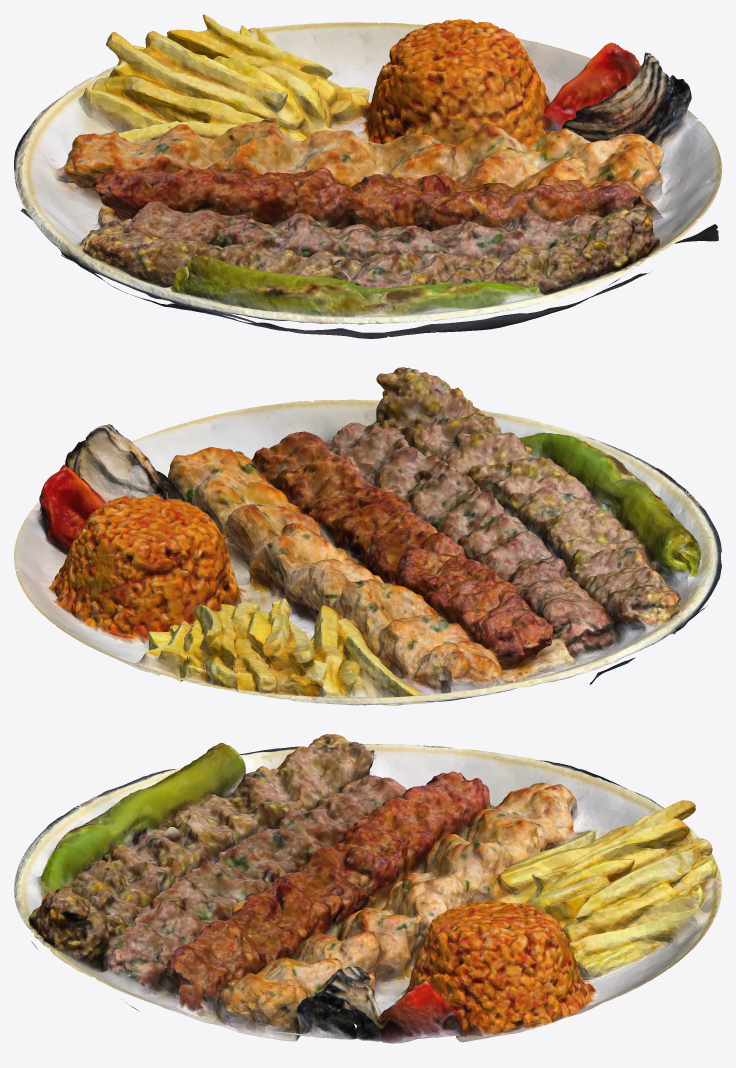
Rendered from mix-kebab.glb.
3 renders of one model, top to bottom at view 1: azimuth 30°, elevation 25°; view 2: azimuth 150°, elevation 25°; view 3: azimuth 270°, elevation 25°, orthographic.
Bounding box in the file's own units: 0.2766 × 0.0444 × 0.2777.
Materials: 1 (1 with a texture image).
